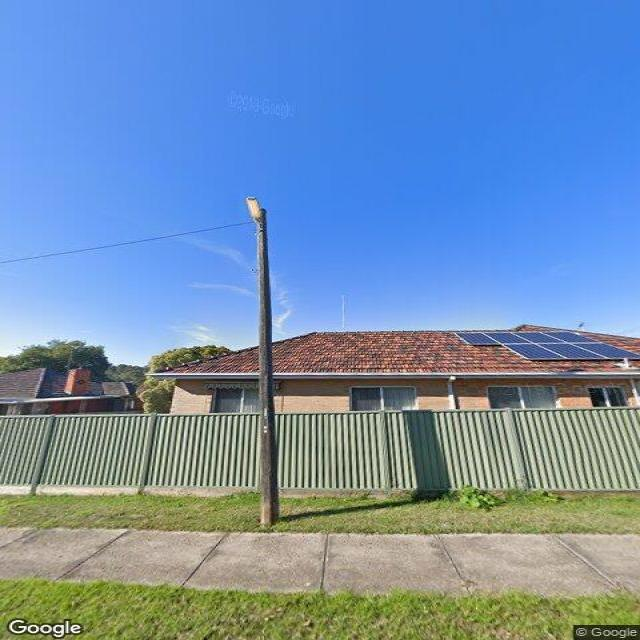streetlight: (245, 197, 263, 224)
timber-pole: (256, 204, 279, 522)
